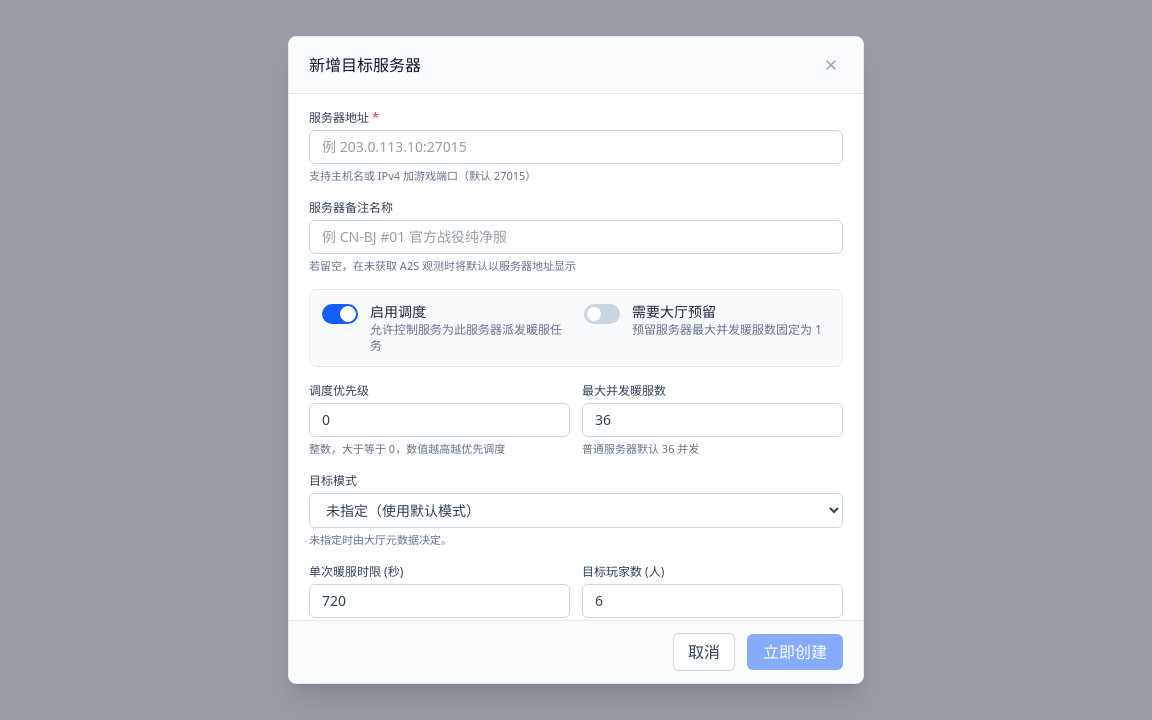
Test: TargetServersView 设置弹窗 › legacy target server priority input rejects negative values
Check: the text "整数，大于等于 0，数值越高越优先调度" is shown, box [309, 441, 505, 456]
Type "203.0.113.7:27015" into the field labelled "服务器地址 *". click: (576, 147)
box: [309, 130, 843, 164]
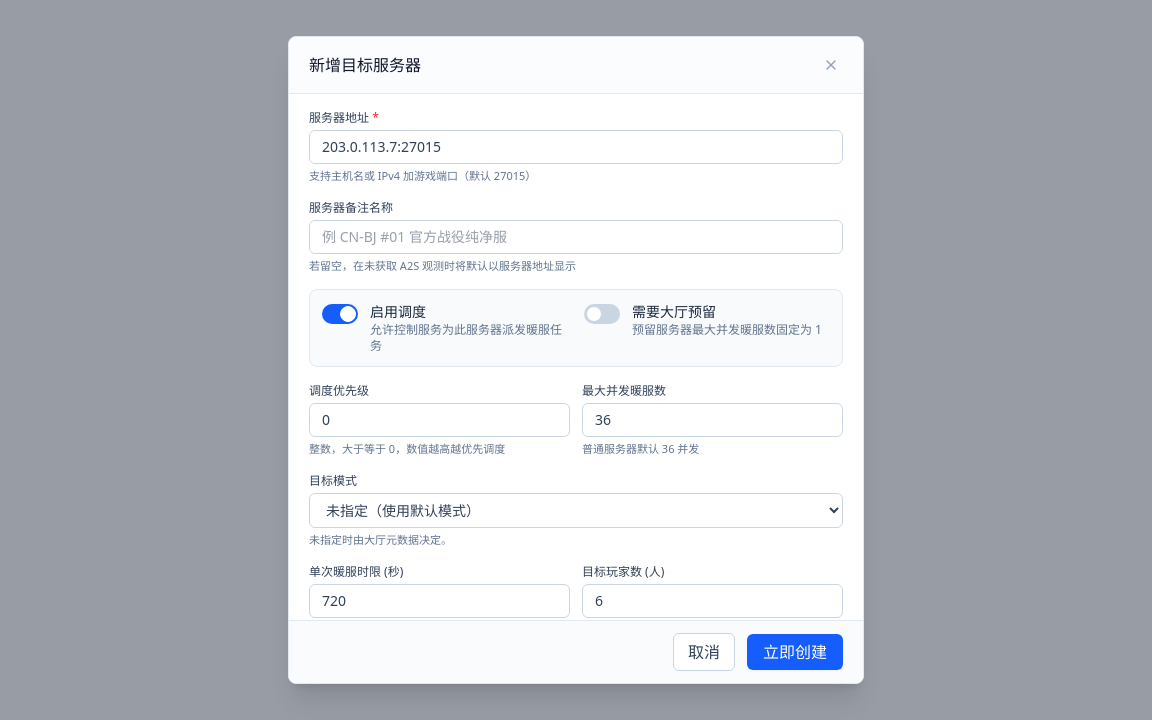
Replace the text in the number field labelled "调度优先级" with "-1". click: (440, 420)
box: [309, 403, 570, 437]
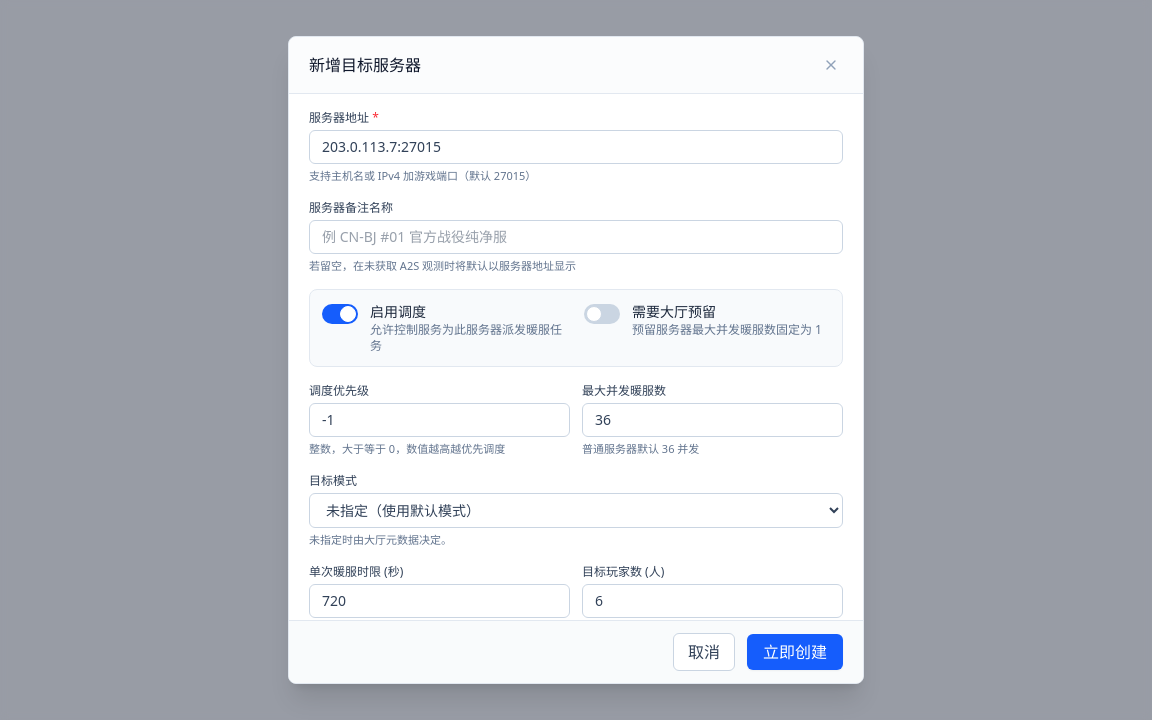
Click the button "立即创建". click: (795, 652)
box: [747, 634, 843, 670]
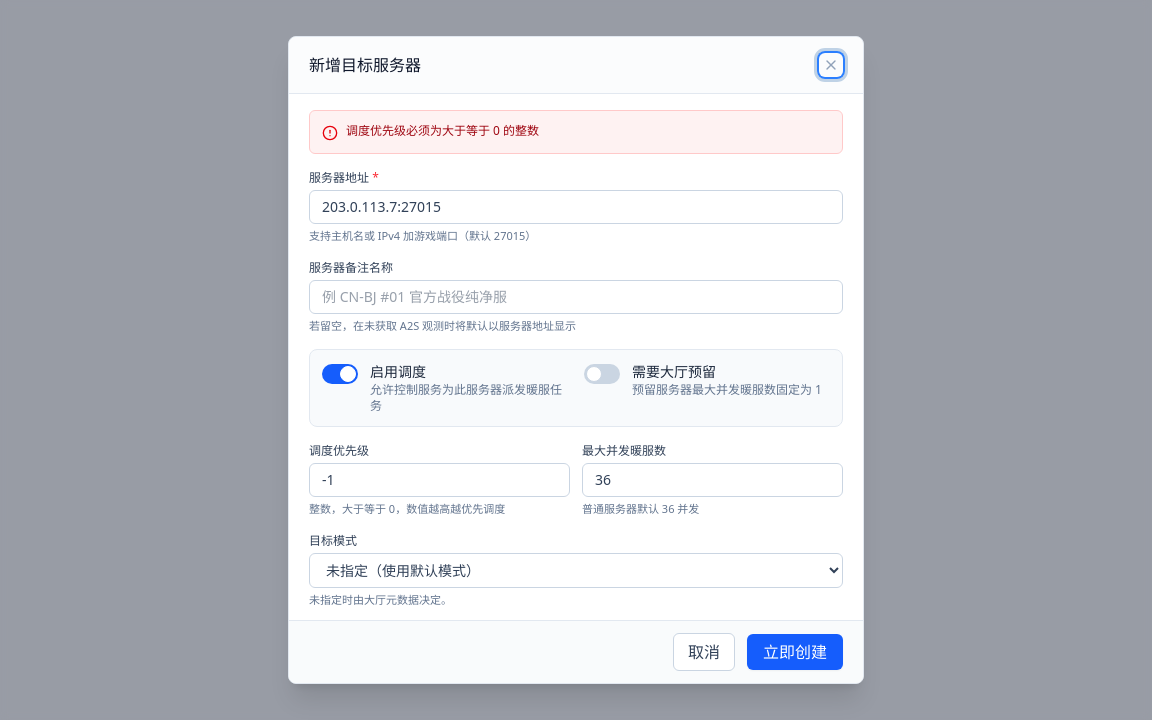
Check: the text "调度优先级必须为大于等于 0 的整数" is shown, box [346, 123, 539, 139]
